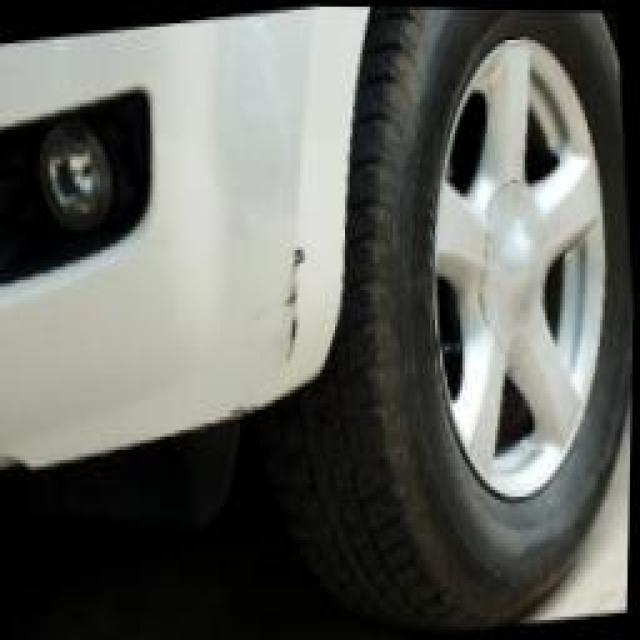Bumper: (225, 187, 348, 385)
